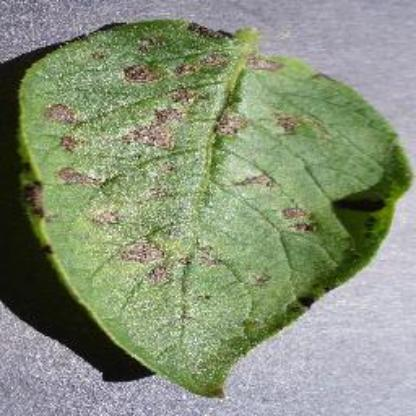Early-Blight: (15, 18, 410, 396)
